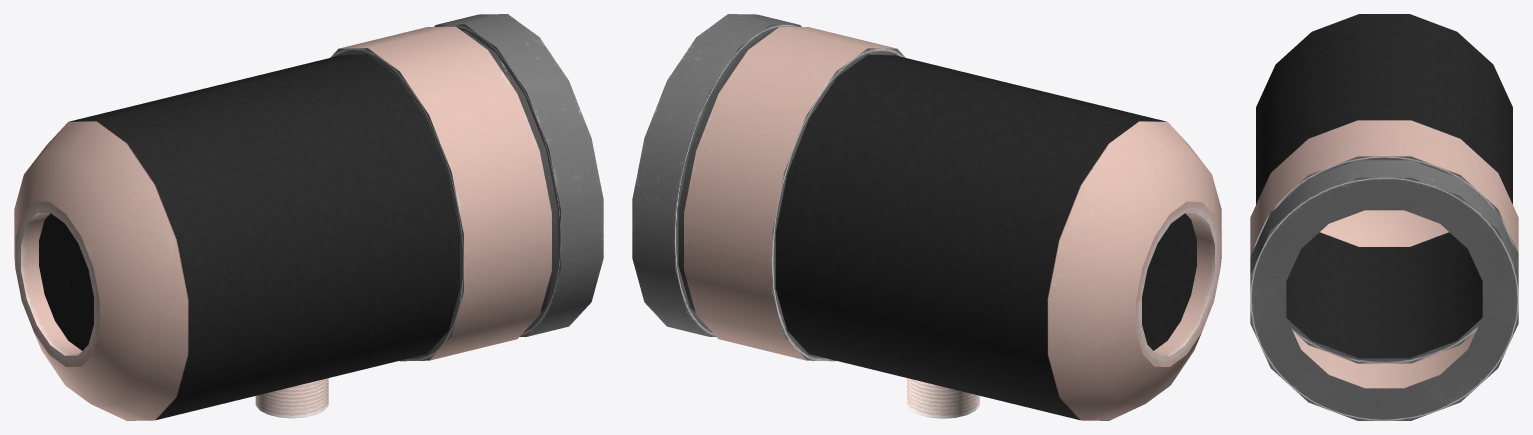
Rendered from pommel_3_c_c.glb.
The picture shows the model from 3 angles, left to right: view 1: azimuth 30°, elevation 25°; view 2: azimuth 150°, elevation 25°; view 3: azimuth 270°, elevation 25°; orthographic projection. The views are drawn at different scales.
Visible parts, largest first — view 1: pommel_3_c_c_lod0; view 2: pommel_3_c_c_lod0; view 3: pommel_3_c_c_lod0.
Part boxes in pixels (x1,y1,x2,y2): pommel_3_c_c_lod0: (14,14,603,420); pommel_3_c_c_lod0: (632,14,1221,420); pommel_3_c_c_lod0: (1250,14,1518,420).
Size of what is drawn, in the model's own units: 0.0481 by 0.0316 by 0.0285.
Materials: 1 (1 with a texture image).
